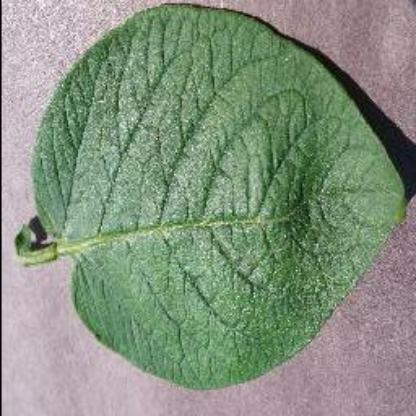Healthy-plant: (23, 4, 408, 398)
